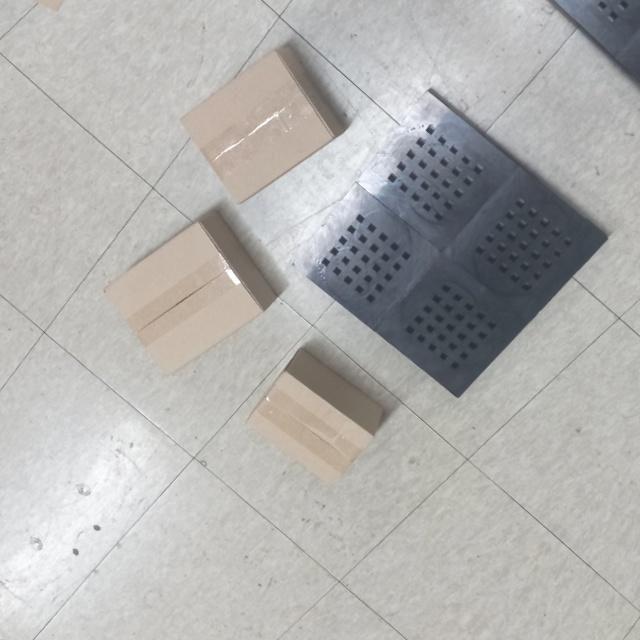box: (100, 206, 280, 380), (177, 38, 347, 215), (248, 346, 391, 476)
pallet: (297, 88, 614, 401)
